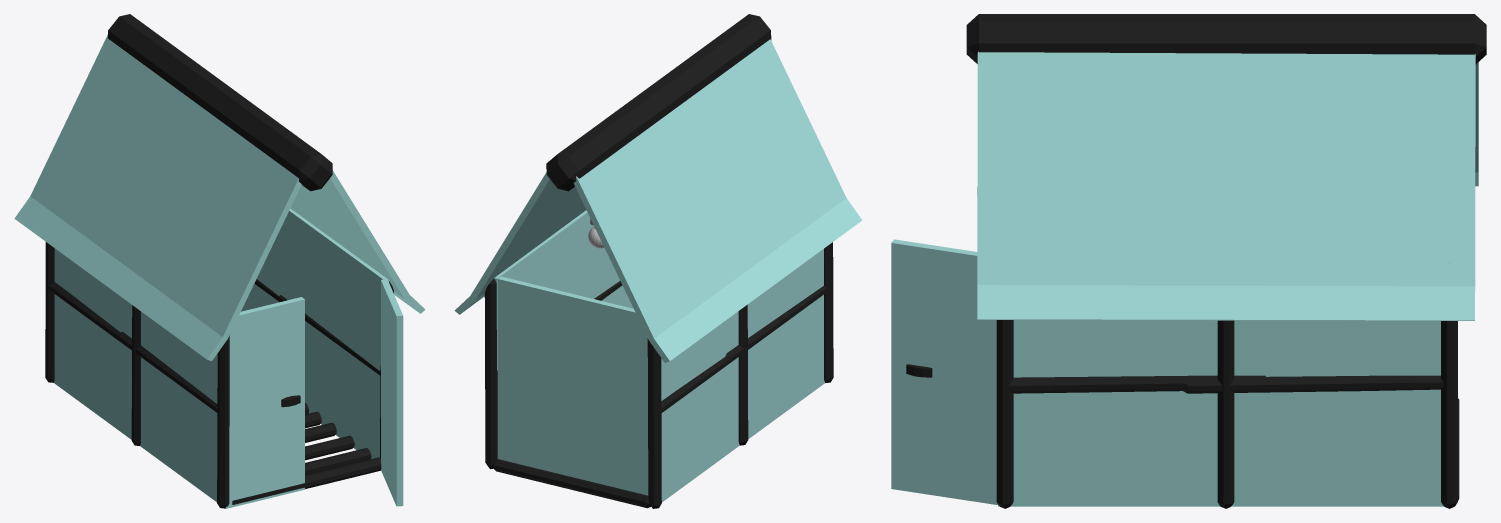
File: Vaxthus.fbx
The picture shows the model from 3 angles, left to right: view 1: azimuth 30°, elevation 25°; view 2: azimuth 150°, elevation 25°; view 3: azimuth 270°, elevation 25°; orthographic projection. The views are drawn at different scales.
Visible parts, largest first — view 1: pCube84; view 2: pCube84; view 3: pCube84.
Boxes of the visible parts, x1,y1,x2,y2 form: pCube84: (14,14,425,508); pCube84: (454,14,862,508); pCube84: (891,14,1486,508).
Size of the model in its own units: 3.59 by 5.36 by 6.58.
